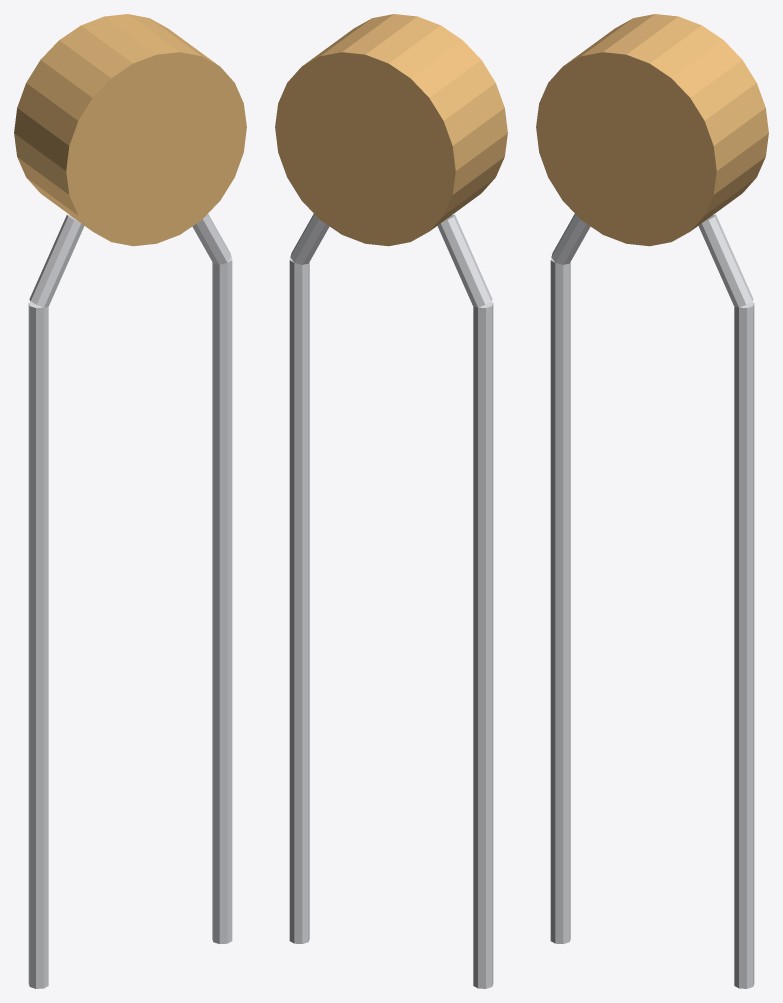
Rendered from ceramic-disc.glb.
3 views of the same model, side by side, from view 1: azimuth 30°, elevation 25°; view 2: azimuth 150°, elevation 25°; view 3: azimuth 330°, elevation 25° (orthographic).
Parts seen in each view (by area): view 1: ceramic-disc_body, ceramic-disc; view 2: ceramic-disc_body, ceramic-disc; view 3: ceramic-disc_body, ceramic-disc.
Boxes of the visible parts, <box> form: ceramic-disc_body: <box>14,14,246,246</box>; ceramic-disc: <box>28,214,232,988</box>; ceramic-disc_body: <box>275,14,507,246</box>; ceramic-disc: <box>289,214,493,988</box>; ceramic-disc_body: <box>536,14,768,246</box>; ceramic-disc: <box>550,214,754,988</box>.
Bounding box in the file's own units: 0.00558 × 0.0245 × 0.0025.
